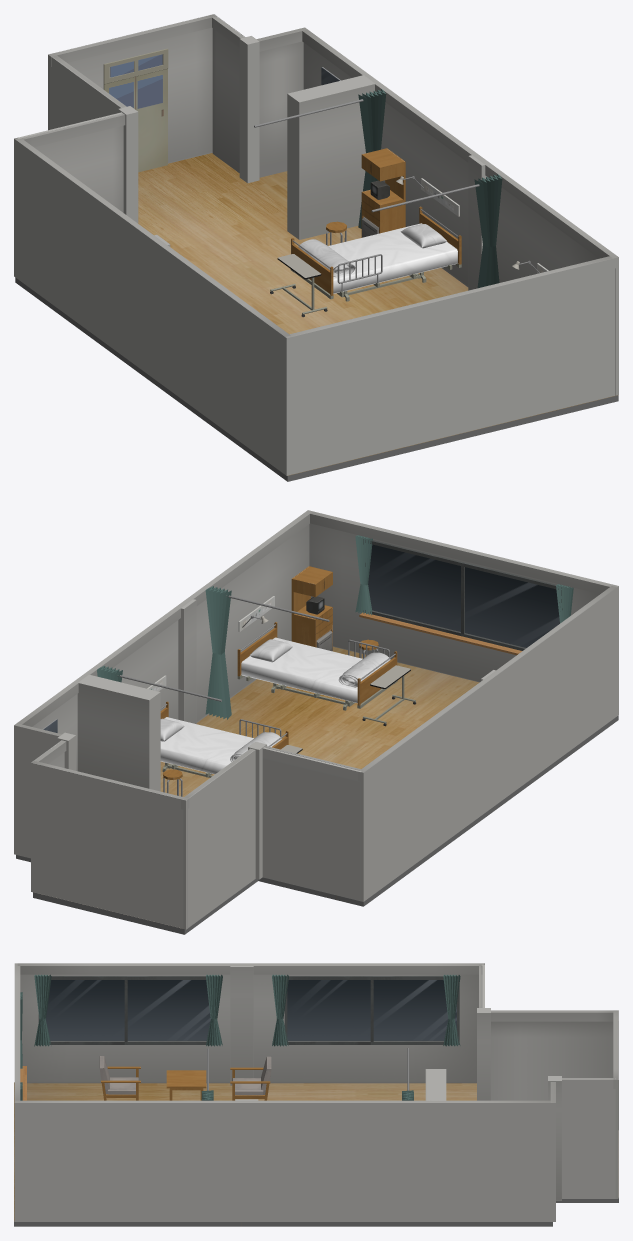
File: infirmary12.fbx
The picture shows the model from 3 angles, top to bottom: view 1: azimuth 30°, elevation 25°; view 2: azimuth 150°, elevation 25°; view 3: azimuth 270°, elevation 25°; orthographic projection. The views are drawn at different scales.
Parts seen in each view (by area): view 1: Cube.063, Cube.066, Cube.096, Cube.062, Cube.058, Cube.069, Cube.067, Cube.060, Cube.012, Cube.068, Cube.019, Cube.070 (+11 smaller); view 2: Cube.066, Cube.069, Cube.096, Cube.062, Cube.063, Cube.082, Cube.067, Cube.070, Cube.058, Cube, Cube.012, Cube.060 (+10 smaller); view 3: Cube.062, Cube.066, Cube.087, Cube.097, Cube.070, Cube.096, Cube.068, Cube.028, Cube.024, Cube.063, Cube.069, Cube.001 (+11 smaller).
Part boxes in pixels (x1,y1,x2,y2): Cube.063: (283, 256, 615, 475); Cube.066: (14, 138, 290, 474); Cube.096: (15, 153, 618, 481); Cube.062: (302, 29, 618, 395); Cube.058: (287, 75, 375, 239); Cube.069: (48, 14, 216, 163); Cube.067: (17, 112, 125, 212); Cube.060: (256, 27, 307, 177); Cube.012: (328, 223, 457, 293); Cube.068: (211, 15, 245, 172); Cube.019: (103, 68, 167, 172); Cube.070: (50, 55, 126, 129); Cube.066: (358, 586, 617, 901); Cube.069: (31, 760, 189, 929); Cube.096: (16, 646, 618, 934); Cube.062: (17, 510, 312, 771); Cube.063: (309, 511, 618, 715); Cube.082: (363, 539, 562, 650); Cube.067: (262, 746, 363, 901); Cube.070: (181, 748, 255, 929); Cube.058: (77, 674, 160, 791); Cube: (241, 637, 362, 703); Cube.012: (160, 717, 253, 774); Cube.060: (14, 723, 61, 858); Cube.062: (14, 1100, 552, 1221); Cube.066: (17, 963, 484, 1083); Cube.087: (284, 976, 459, 1044); Cube.097: (38, 976, 210, 1044); Cube.070: (491, 1010, 618, 1129); Cube.096: (14, 1082, 618, 1226); Cube.068: (562, 1078, 615, 1198); Cube.028: (230, 966, 253, 1085); Cube.024: (477, 1008, 490, 1100); Cube.063: (14, 963, 20, 1100); Cube.069: (613, 1010, 618, 1198); Cube.001: (34, 974, 51, 1046).
Bounding box in the file's own units: 11539 × 4804 × 21114.
